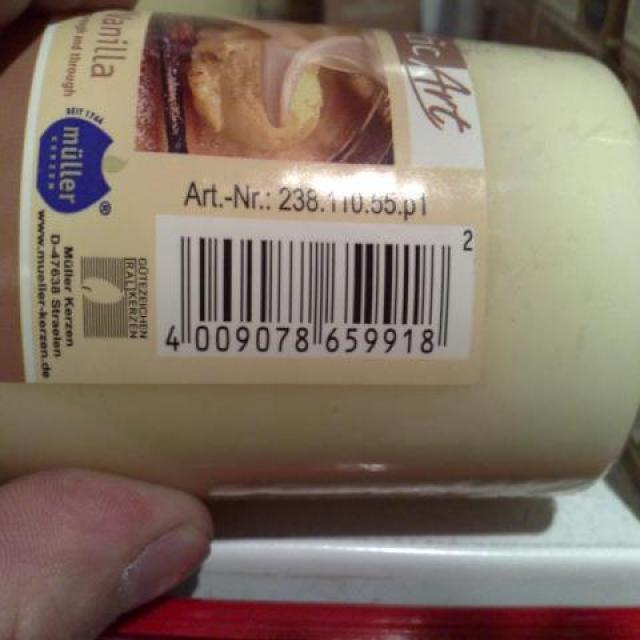Barcode: (157, 215, 475, 360)
